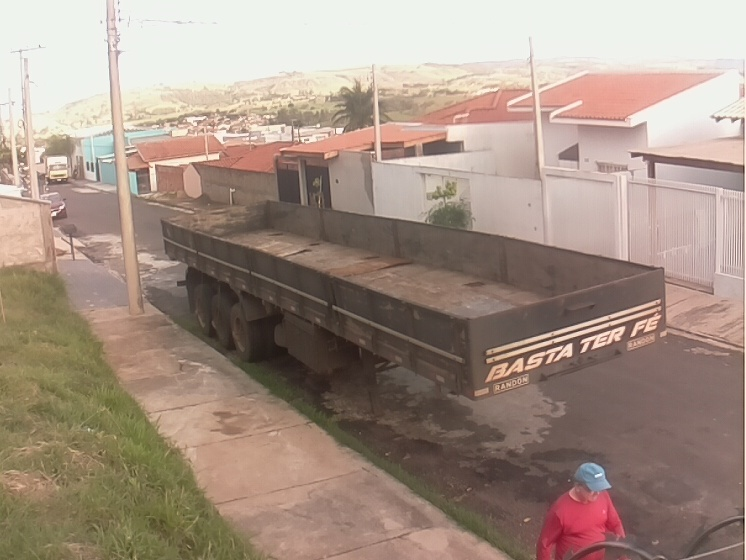person: (533, 462, 629, 560)
